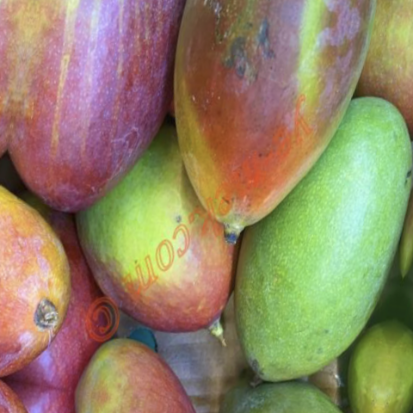mango: (209, 61, 413, 413), (130, 0, 381, 268), (47, 103, 276, 387), (0, 0, 202, 275)
